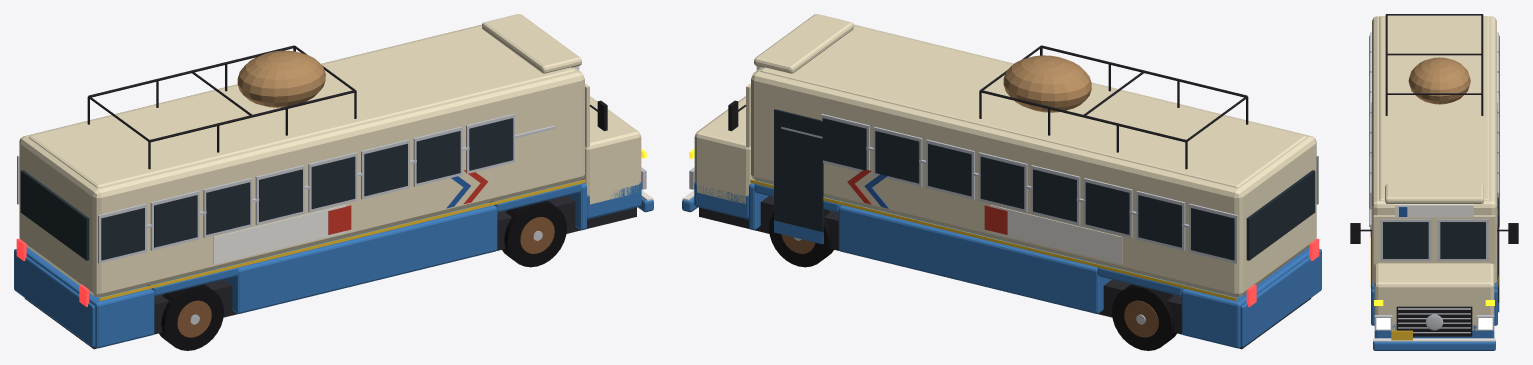
Rendered from bus.glb.
3 renders of one model, left to right at view 1: azimuth 30°, elevation 25°; view 2: azimuth 150°, elevation 25°; view 3: azimuth 270°, elevation 25°, orthographic. The views are drawn at different scales.
Visible parts, largest first — view 1: Cube.006, Cube.007, Cube.002, Cube.058, Sphere.001, Cube.001, Cube.079, Cube.045, Cube.078, Cube.008, Cube, Cylinder.006 (+27 smaller); view 2: Cube.006, Cube.007, Cube.002, Cube.049, Cube.058, Sphere.001, Cube.001, Cube.079, Cube.047, Cube.078, Cube.008, Cube (+27 smaller); view 3: Cube.007, Cube.058, Cube.006, Sphere.001, Cube.008, Cube.060, Cube.051, Cube.053, Cube.055, Cube.073, Cube.056, Cube.059 (+21 smaller).
Boxes of the visible parts, box(x1,y1,x2,y2) form: Cube.006: box(19, 24, 584, 297); Cube.007: box(28, 25, 575, 187); Cube.002: box(224, 202, 497, 313); Cube.058: box(580, 96, 641, 204); Sphere.001: box(237, 50, 325, 107); Cube.001: box(26, 247, 154, 348); Cube.079: box(14, 249, 95, 347); Cube.045: box(213, 205, 345, 264); Cube.078: box(20, 170, 89, 260); Cube.008: box(482, 14, 581, 73); Cube: box(24, 196, 636, 349); Cylinder.006: box(502, 200, 566, 267); Cube.006: box(751, 24, 1316, 297); Cube.007: box(760, 25, 1307, 187); Cube.002: box(838, 202, 1111, 313); Cube.049: box(774, 109, 823, 234); Cube.058: box(694, 96, 755, 203); Sphere.001: box(1003, 55, 1091, 112); Cube.001: box(1181, 247, 1309, 348); Cube.079: box(1240, 249, 1321, 347); Cube.047: box(990, 205, 1122, 264); Cube.078: box(1246, 170, 1315, 260); Cube.008: box(754, 14, 853, 73); Cube: box(699, 196, 1311, 349); Cube.007: box(1379, 16, 1489, 200); Cube.058: box(1374, 263, 1494, 330); Cube.006: box(1372, 16, 1496, 285); Sphere.001: box(1408, 57, 1470, 104); Cube.008: box(1385, 184, 1483, 203); Cube.060: box(1396, 306, 1472, 336); Cube.051: box(1373, 215, 1495, 263); Cube.053: box(1383, 222, 1428, 258); Cube.055: box(1440, 222, 1485, 258); Cube.073: box(1373, 341, 1495, 350); Cube.056: box(1395, 204, 1473, 217); Cube.059: box(1374, 324, 1494, 338).
Bounding box in the file's own units: 9.88 × 3.88 × 3.24.
